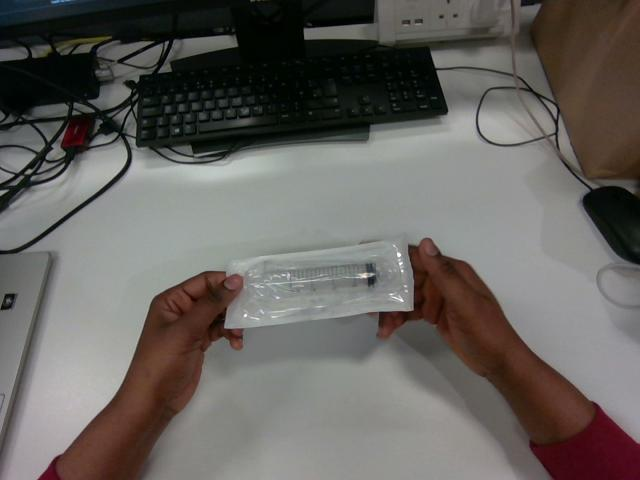syringe: (225, 236, 413, 328)
